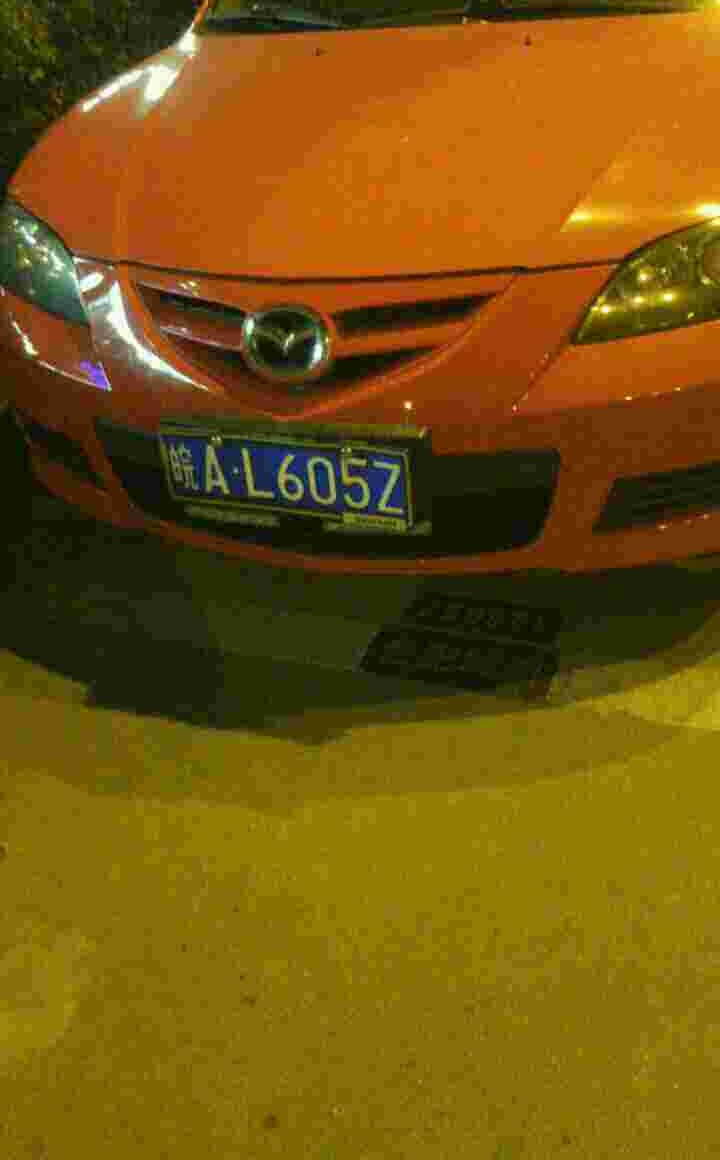license_plate: (166, 439, 409, 512)
